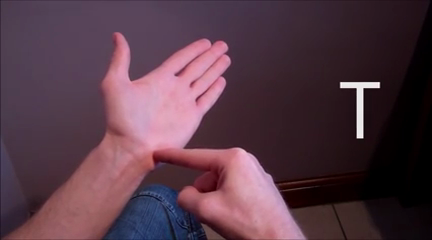T: (98, 18, 316, 240)
